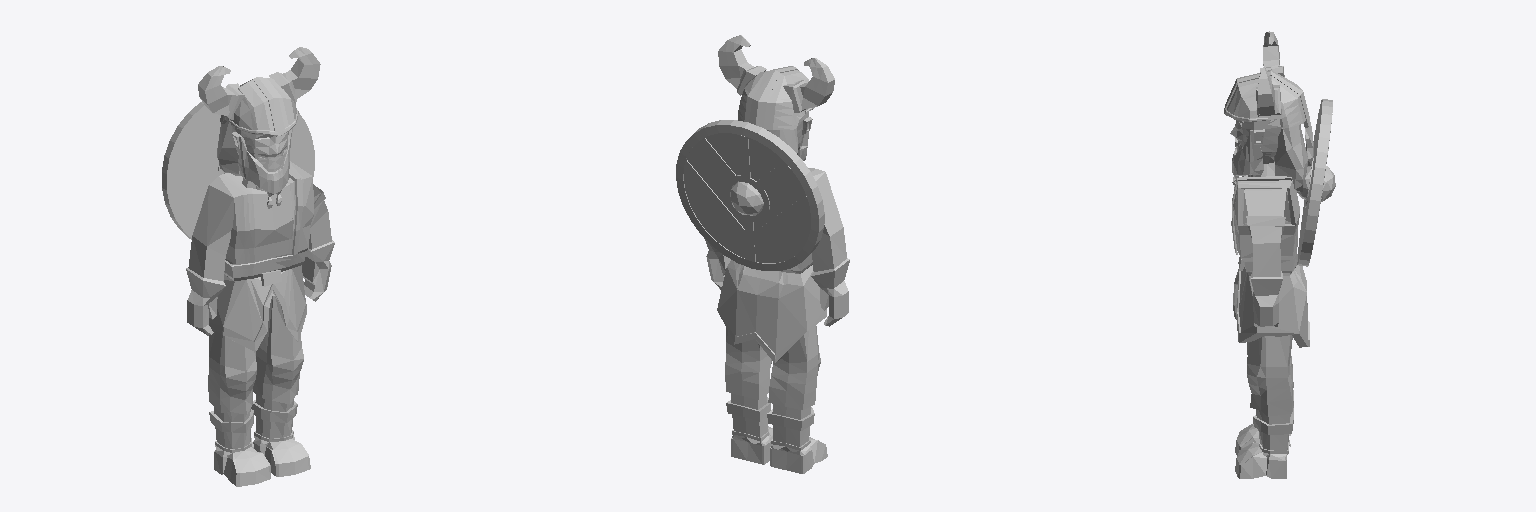
File: pariaMasculino.obj
The picture shows the model from 3 angles: view 1: azimuth 30°, elevation 25°; view 2: azimuth 150°, elevation 25°; view 3: azimuth 270°, elevation 25°; orthographic projection.
Visible parts, largest first — view 1: Torso_Cube.003; view 2: Torso_Cube.003; view 3: Torso_Cube.003.
Boxes of the visible parts, x1,y1,x2,y2 form: Torso_Cube.003: [162, 47, 334, 486]; Torso_Cube.003: [676, 35, 849, 473]; Torso_Cube.003: [1224, 31, 1335, 478].
Bounding box in the file's own units: 1.22 × 3.3 × 0.8099.